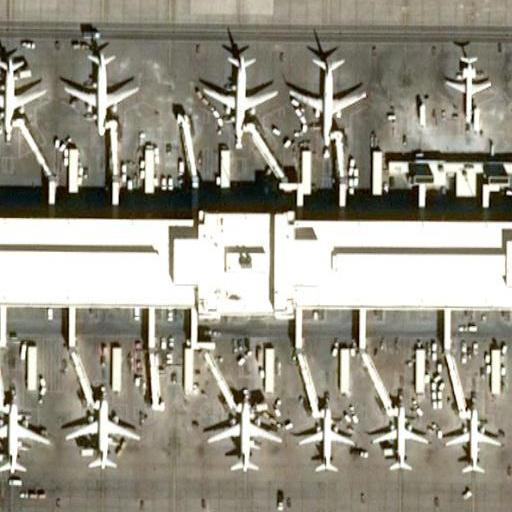Aircraft: (287, 40, 370, 146), (200, 41, 281, 146), (65, 43, 142, 136), (63, 387, 144, 471), (203, 388, 283, 472), (295, 401, 358, 474), (369, 399, 432, 470), (0, 47, 48, 140), (0, 391, 49, 478), (445, 404, 498, 481), (445, 53, 491, 120)
